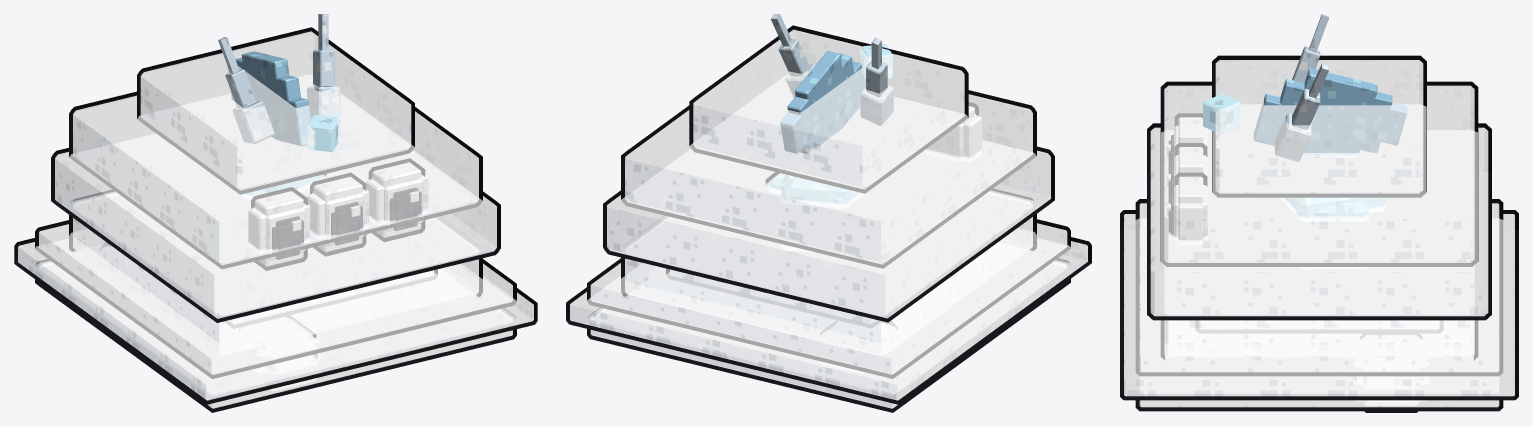
File: snow_jelly_06.glb
The picture shows the model from 3 angles, left to right: view 1: azimuth 30°, elevation 25°; view 2: azimuth 150°, elevation 25°; view 3: azimuth 270°, elevation 25°; orthographic projection. The views are drawn at different scales.
Visible parts, largest first — view 1: model; view 2: model; view 3: model.
Part boxes in pixels (bbox=[...]): model: bbox=[14, 14, 537, 412]; model: bbox=[566, 14, 1091, 412]; model: bbox=[1120, 14, 1518, 412].
Size of the model in its own units: 1.49 by 1.29 by 1.49.
Materials: 7 (6 with a texture image).
